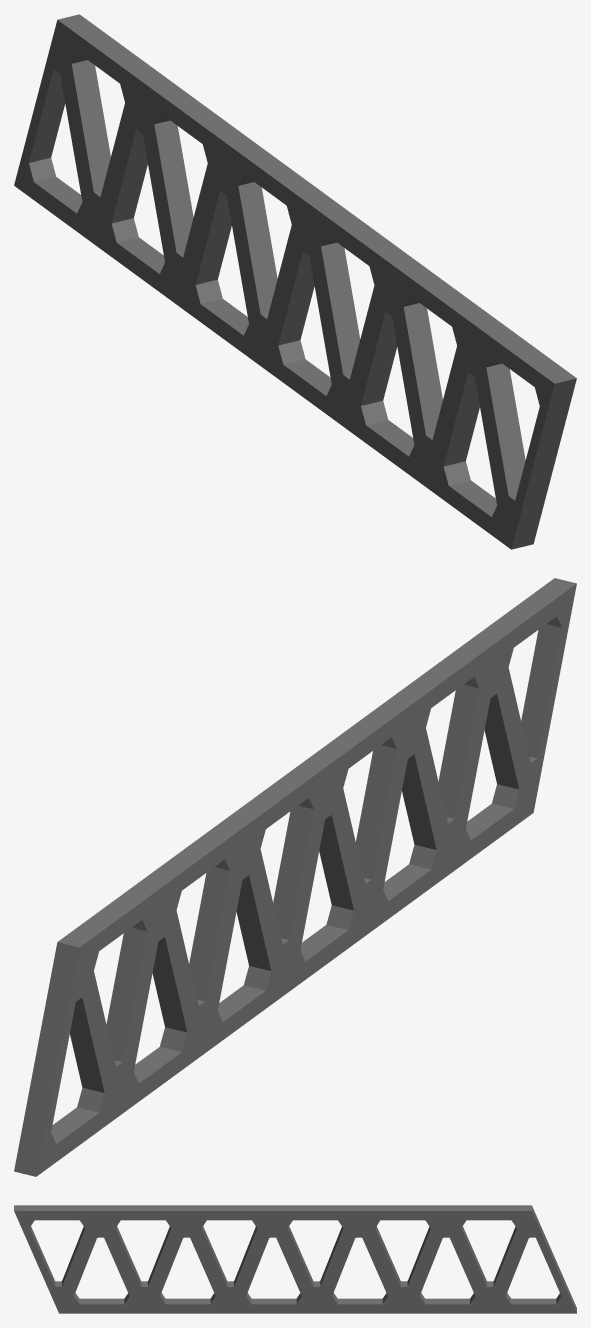
Rendered from MetalSupport_Sphere.obj.
3 views of the same model, one above another, from view 1: azimuth 30°, elevation 25°; view 2: azimuth 150°, elevation 25°; view 3: azimuth 270°, elevation 25° (orthographic). The views are drawn at different scales.
Parts seen in each view (by area): view 1: MetalSupport_Sphere.013; view 2: MetalSupport_Sphere.013; view 3: MetalSupport_Sphere.013.
Boxes of the visible parts, x1=… form: MetalSupport_Sphere.013: x1=14, y1=14, x2=576, y2=549; MetalSupport_Sphere.013: x1=14, y1=578, x2=576, y2=1176; MetalSupport_Sphere.013: x1=14, y1=1205, x2=576, y2=1313.
Bounding box in the file's own units: 0.1415 × 1.2 × 5.95.
